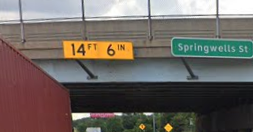1: (68, 41, 77, 58)
4: (75, 42, 87, 58)
6: (105, 42, 117, 58)
overheadsign: (61, 40, 134, 61)
